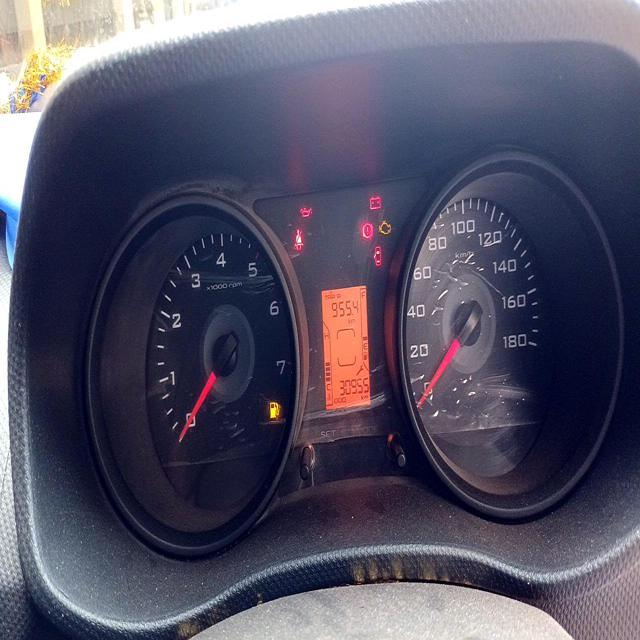odometer: (339, 376, 369, 398)
